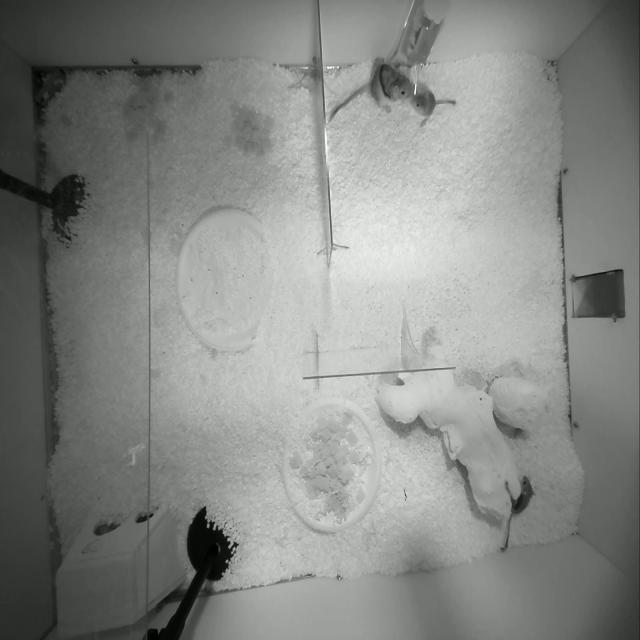adult_front: (330, 59, 411, 121)
pup_fluffy: (412, 90, 456, 127)
pup_v_stripe: (500, 476, 534, 551)
